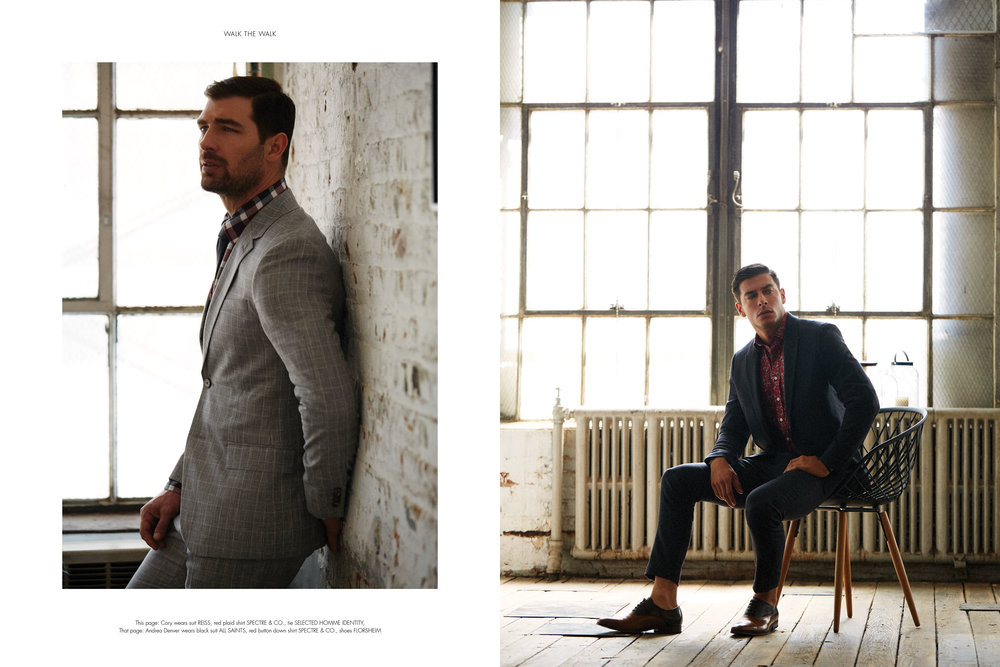feet: (598, 586, 782, 637)
